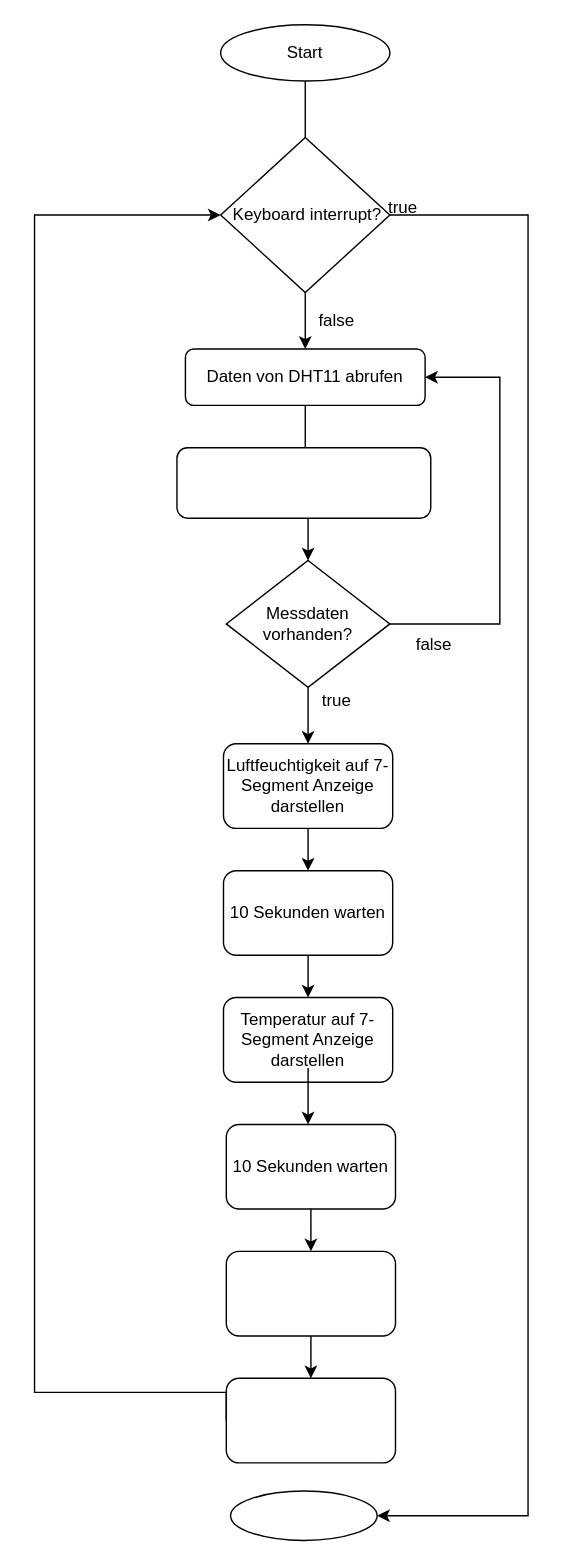
The diagram is 564 pixels wide and 1565 high, and some of its shapes have lost their labels. Each missing label, with the centre of its shape:
"Daten von BH1750FVI abrufen" goes at (x=303, y=482).
"Ende" goes at (x=303, y=1515).
"Helligkeit auf Matrix anzeigen" goes at (x=310, y=1293).
"Luftfeuchtigkeit und Temperatur auf LCD Display anzeigen" goes at (x=310, y=1420).
